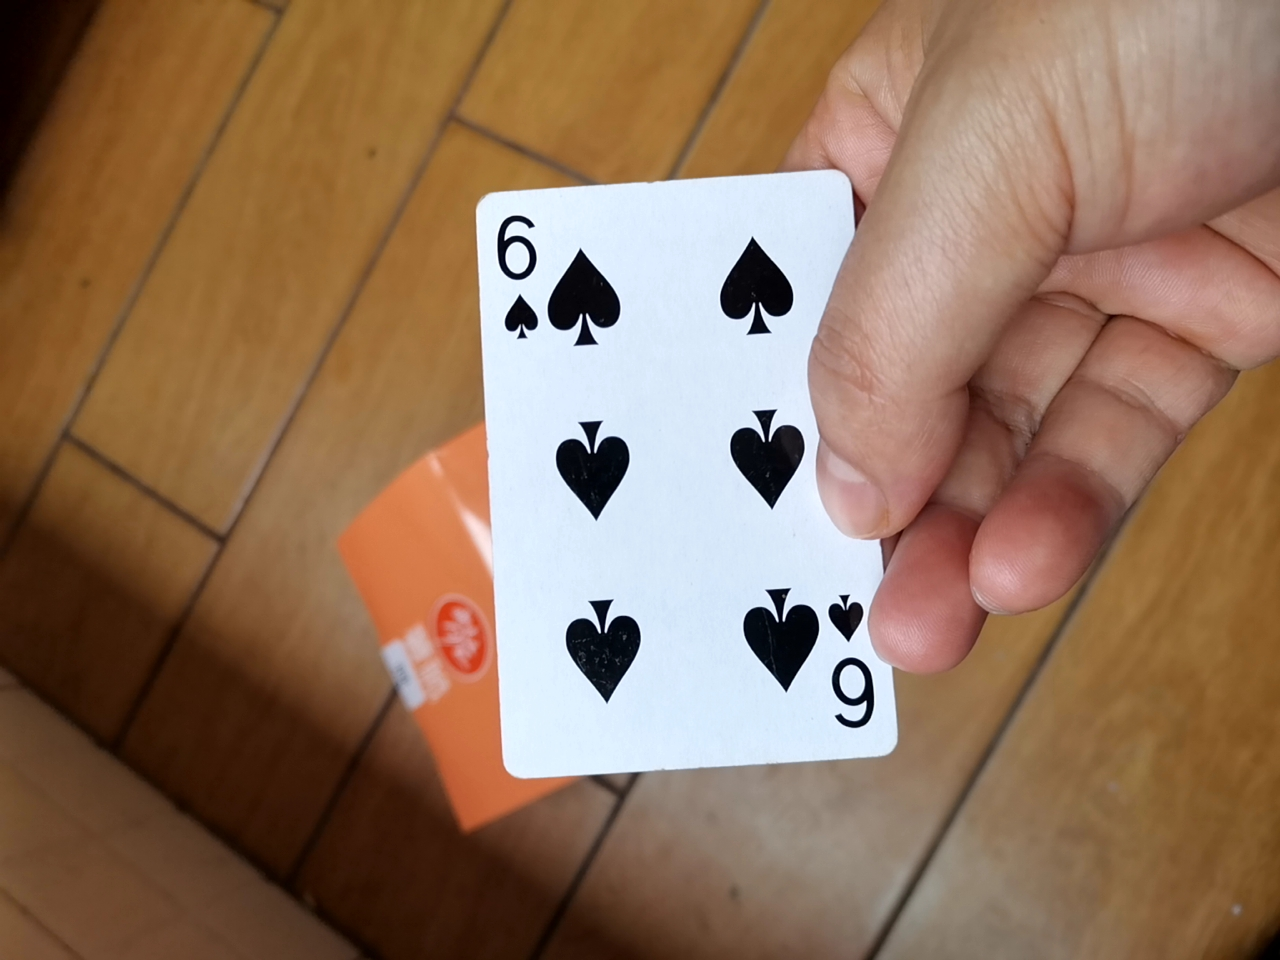ht 6: (458, 175, 877, 809)
